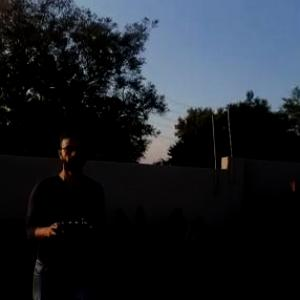follow: (20, 125, 109, 299)
